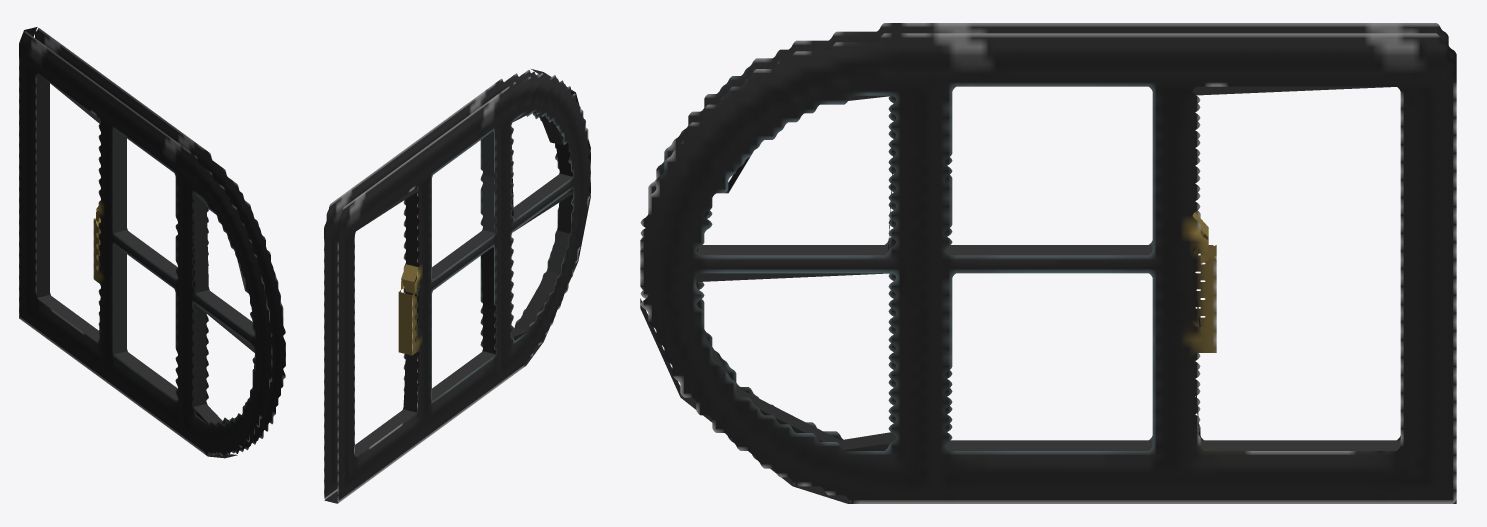
File: pz_native_fixtures_windows_metal_50_frame.obj
3 renders of one model, left to right at view 1: azimuth 30°, elevation 25°; view 2: azimuth 150°, elevation 25°; view 3: azimuth 270°, elevation 25°, orthographic. The views are drawn at different scales.
Parts seen in each view (by area): view 1: pz_native_fixtures_windows_metal_50_frame; view 2: pz_native_fixtures_windows_metal_50_frame; view 3: pz_native_fixtures_windows_metal_50_frame.
Boxes of the visible parts, x1,y1,x2,y2 form: pz_native_fixtures_windows_metal_50_frame: [19, 27, 285, 458]; pz_native_fixtures_windows_metal_50_frame: [324, 69, 590, 503]; pz_native_fixtures_windows_metal_50_frame: [640, 23, 1456, 503].
Size of the model in its own units: 0.04 by 0.8594 by 1.35.
Materials: 1 (1 with a texture image).
